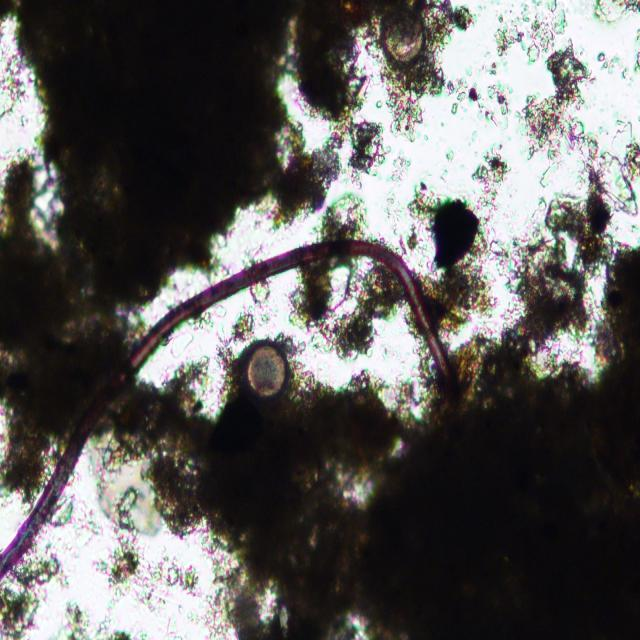Background material: (117, 248, 640, 638), (0, 1, 286, 269), (0, 180, 134, 485), (489, 107, 640, 349), (414, 183, 506, 331), (276, 115, 391, 223), (290, 0, 385, 115), (106, 496, 202, 607), (524, 43, 591, 166), (0, 549, 67, 638), (380, 70, 444, 142), (448, 70, 516, 132), (496, 0, 565, 61), (426, 0, 474, 70), (55, 600, 134, 639), (474, 140, 514, 203), (325, 200, 371, 243), (592, 0, 640, 29), (597, 46, 640, 78), (228, 310, 257, 342), (248, 281, 274, 307)
Diatom: (381, 10, 427, 70), (245, 339, 289, 400)
Microfibre: (0, 232, 449, 577)
